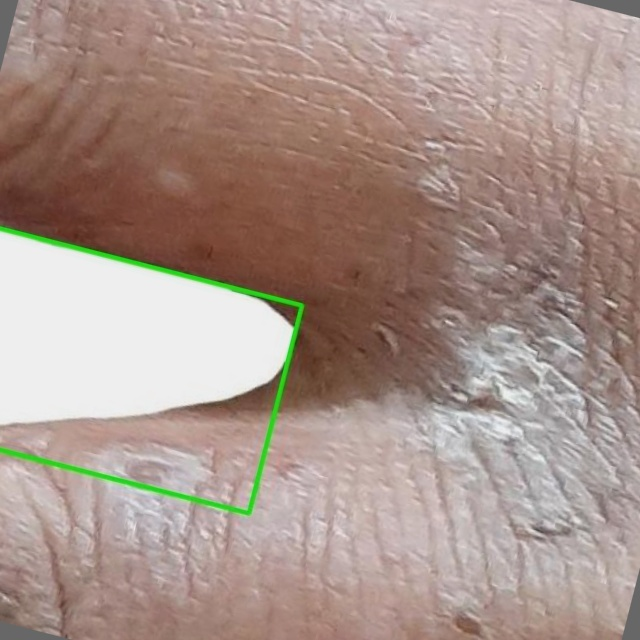Scabies: (0, 228, 301, 513)
